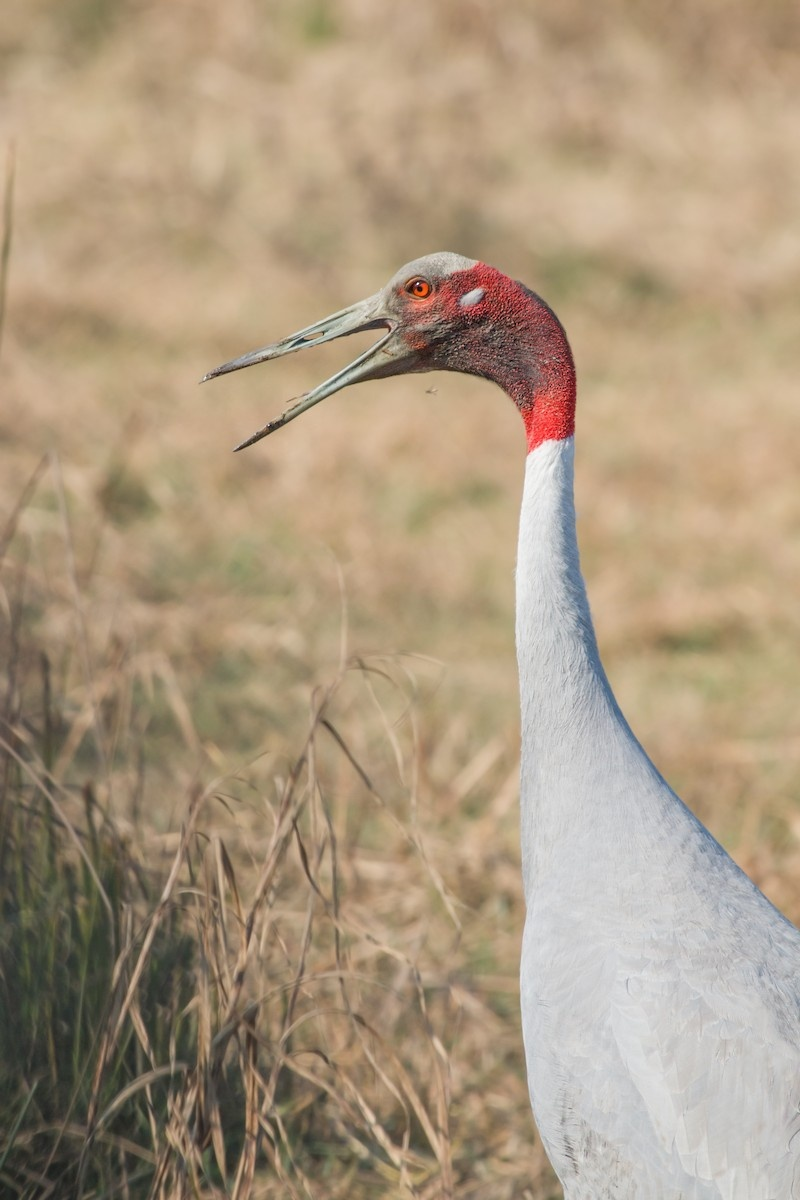crane: (202, 239, 800, 1191)
